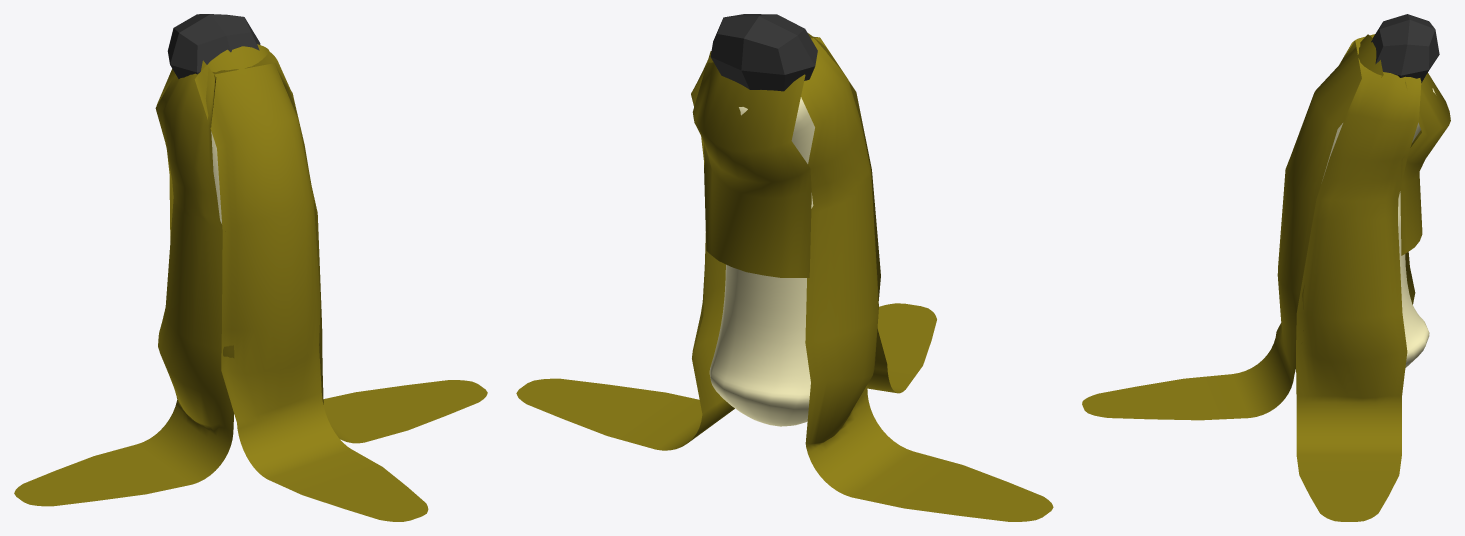
The model's file is Banananaaanana .fbx.
The picture shows the model from 3 angles, left to right: view 1: azimuth 30°, elevation 25°; view 2: azimuth 150°, elevation 25°; view 3: azimuth 270°, elevation 25°; orthographic projection. The views are drawn at different scales.
Parts seen in each view (by area): view 1: Plane.001, Plane, Cube.002; view 2: Plane, Plane.002, Cube, Cube.002, Plane.001; view 3: Plane, Plane.001, Plane.002, Cube.002, Cube.
Boxes of the visible parts, x1,y1,x2,y2 form: Plane.001: (194, 44, 428, 521); Plane: (14, 51, 487, 506); Cube.002: (167, 14, 260, 78); Plane: (516, 36, 1053, 521); Plane.002: (692, 51, 811, 277); Cube: (709, 97, 814, 426); Cube.002: (710, 14, 817, 91); Plane.001: (808, 33, 936, 393); Plane: (1296, 34, 1421, 521); Plane.001: (1082, 34, 1383, 420); Plane.002: (1400, 73, 1450, 255); Cube.002: (1371, 14, 1439, 82); Cube: (1322, 88, 1435, 367).
Bounding box in the file's own units: 575 × 486 × 416.
